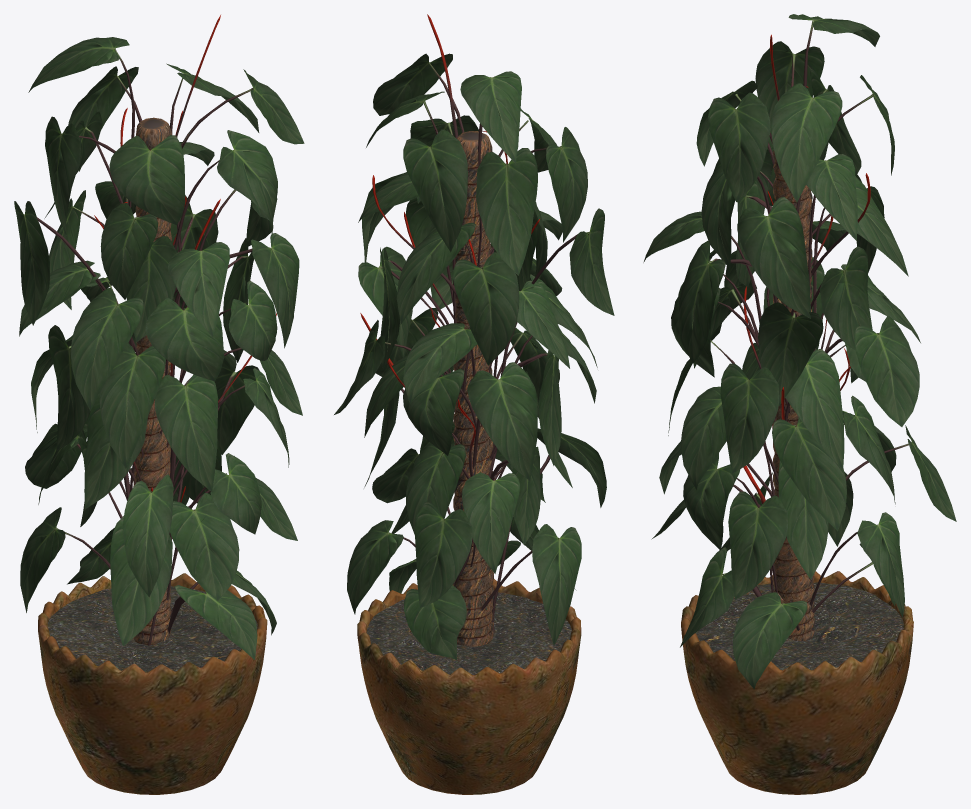
The model's file is plant_25.glb.
The picture shows the model from 3 angles, left to right: view 1: azimuth 30°, elevation 25°; view 2: azimuth 150°, elevation 25°; view 3: azimuth 270°, elevation 25°; orthographic projection. The views are drawn at different scales.
Parts seen in each view (by area): view 1: Plants_VOL02_12; view 2: Plants_VOL02_12; view 3: Plants_VOL02_12.
Boxes of the visible parts, x1,y1,x2,y2 form: Plants_VOL02_12: [14, 15, 304, 794]; Plants_VOL02_12: [334, 14, 614, 794]; Plants_VOL02_12: [643, 14, 956, 794].
Bounding box in the file's own units: 0.3895 × 1.09 × 0.407.
Materials: 1 (1 with a texture image).
